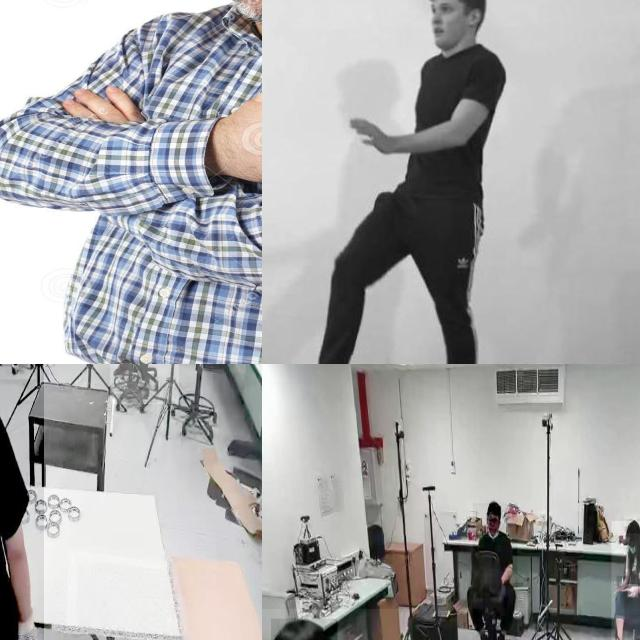No_Ear-Protection: (470, 0, 486, 35)
face_nomask: (418, 16, 461, 44), (486, 513, 500, 534)
hand_noglove: (339, 92, 396, 174), (616, 576, 628, 589), (628, 584, 638, 598)
head_nohelmet: (271, 619, 338, 640), (626, 519, 640, 534), (487, 500, 501, 512)
person: (289, 0, 508, 364), (472, 503, 517, 640), (611, 520, 640, 640), (110, 364, 179, 405)
shoes: (111, 364, 131, 380), (494, 627, 510, 640), (610, 632, 626, 640), (8, 364, 20, 370)
